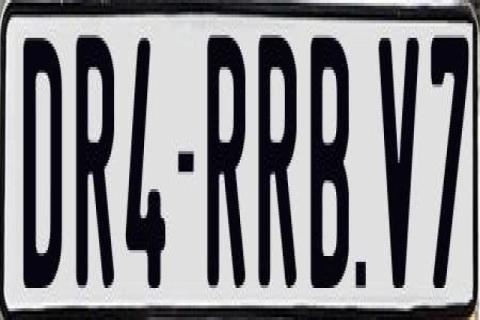0: (123, 35, 166, 294), (428, 32, 462, 300)
B: (310, 29, 352, 291)
D: (23, 29, 63, 282)
R: (255, 27, 298, 297), (205, 35, 247, 288), (75, 26, 114, 291)
V: (378, 32, 421, 285)
